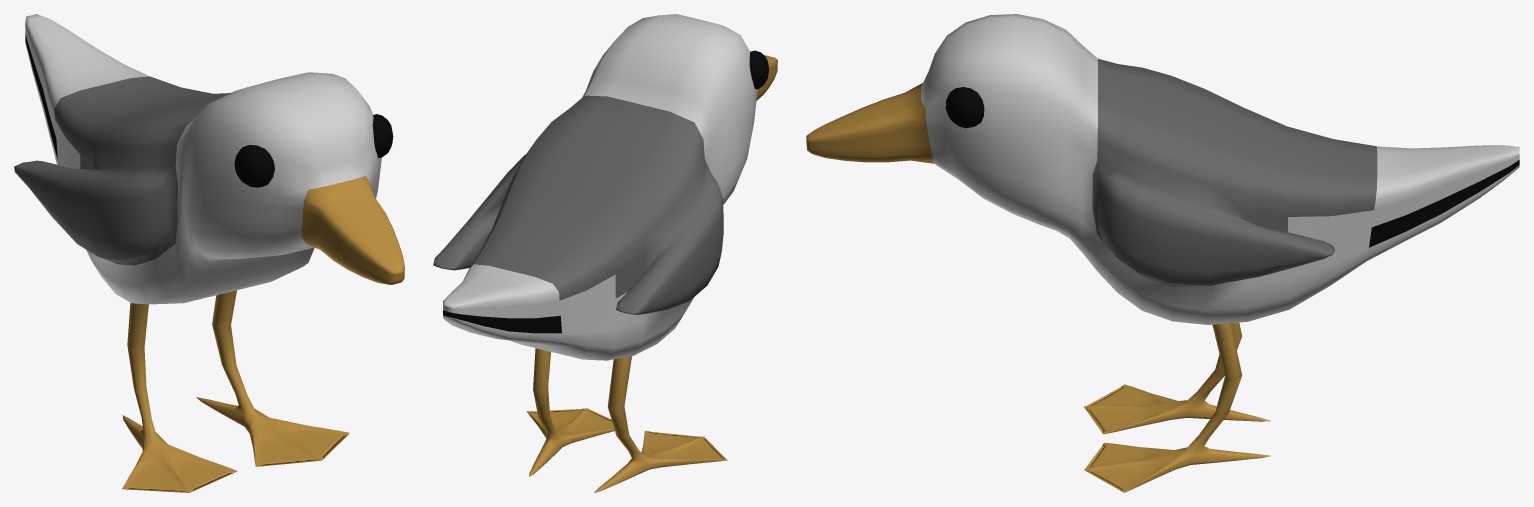
File: Seagull 1.fbx
3 views of the same model, side by side, from view 1: azimuth 30°, elevation 25°; view 2: azimuth 150°, elevation 25°; view 3: azimuth 270°, elevation 25° (orthographic). The views are drawn at different scales.
Parts seen in each view (by area): view 1: pCube13; view 2: pCube13; view 3: pCube13.
Boxes of the visible parts, box(x1,y1,x2,y2) form: pCube13: box(14, 14, 404, 492); pCube13: box(433, 14, 777, 492); pCube13: box(806, 14, 1519, 492).
Size of the model in its own units: 0.3778 by 0.6483 by 1.02.
